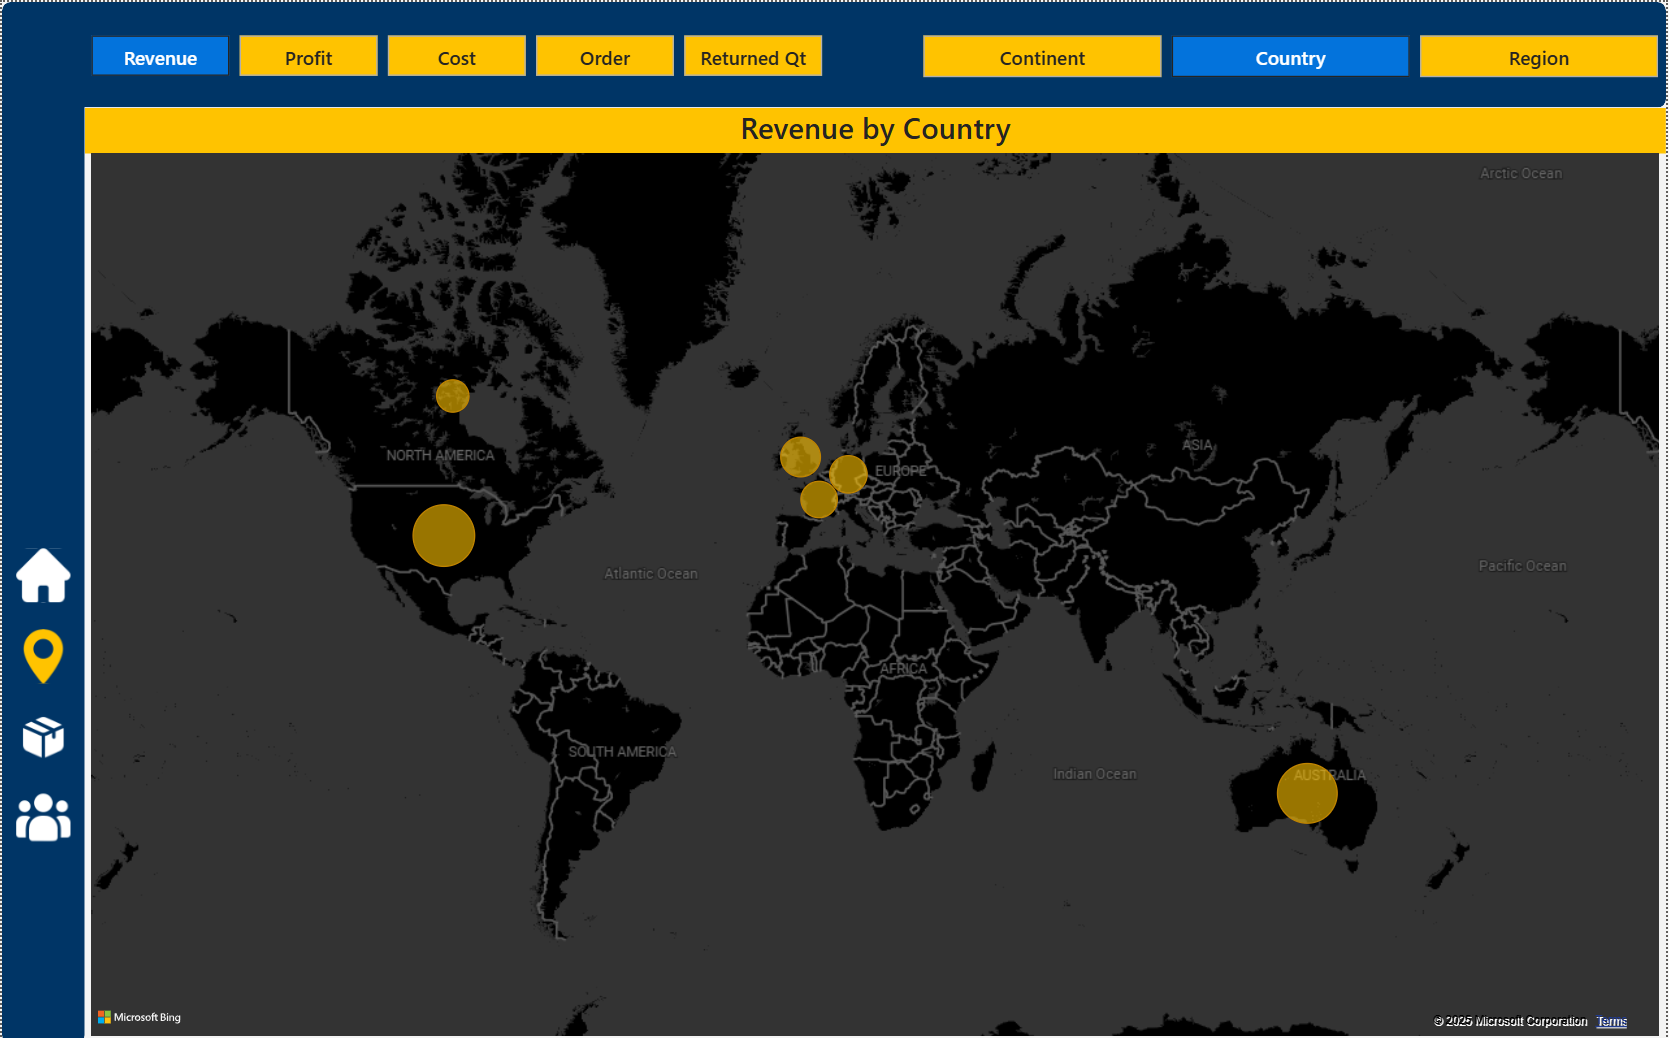

This screenshot's page, from the dashboard's own definition file:
{"tool":"powerbi","page":{"name":"Map","canvas":[1280,800],"ordinal":1},"visuals":[{"type":"shape","box":[0,0,1280,81.2],"z":0},{"type":"shape","box":[0,71.9,63.6,728.4],"z":1000},{"type":"map","fields":{"Category":["Territory Lookup.Region"],"Size":["_Measure Table.Quantity Returned"]},"box":[63.6,81.5,1216.3,718.7],"z":2000},{"type":"advancedSlicerVisual","fields":{"Values":["Location Parameters.Location Parameters"]},"box":[703.5,20.7,576.4,42.8],"z":3000},{"type":"advancedSlicerVisual","fields":{"Values":["Multiple Parameter.Multiple Parameter"]},"box":[63.6,20.7,576.4,41.5],"z":4000},{"type":"actionButton","box":[6.9,416,49.8,49.8],"z":5000},{"type":"actionButton","box":[6.9,478.2,49.8,49.8],"z":6000},{"type":"actionButton","box":[6.9,540.4,49.8,49.8],"z":7000},{"type":"actionButton","box":[6.9,602.6,49.8,49.8],"z":8000}]}

Visuals, with their boxes in screenshot pixels (x1, y1, x2, y2), scaled from the page's 1280x800 canvas onto the 1669x1038 screenshot:
shape: region(0, 0, 1668, 105)
shape: region(0, 93, 83, 1037)
map - Territory Lookup.Region x _Measure Table.Quantity Returned: region(83, 106, 1668, 1037)
advancedSlicerVisual - Location Parameters.Location Parameters: region(917, 27, 1668, 82)
advancedSlicerVisual - Multiple Parameter.Multiple Parameter: region(83, 27, 834, 81)
actionButton: region(9, 540, 74, 604)
actionButton: region(9, 620, 74, 685)
actionButton: region(9, 701, 74, 766)
actionButton: region(9, 782, 74, 846)
